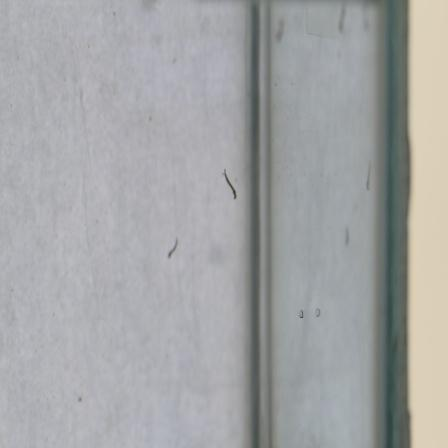Jentik-Nyamuk: (218, 165, 241, 204), (163, 233, 182, 263)
